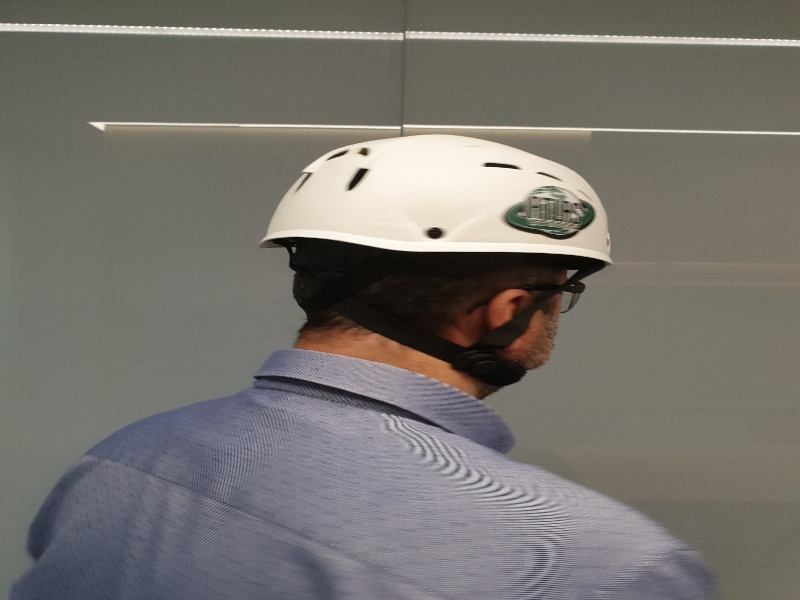Baret: (263, 133, 615, 268)
